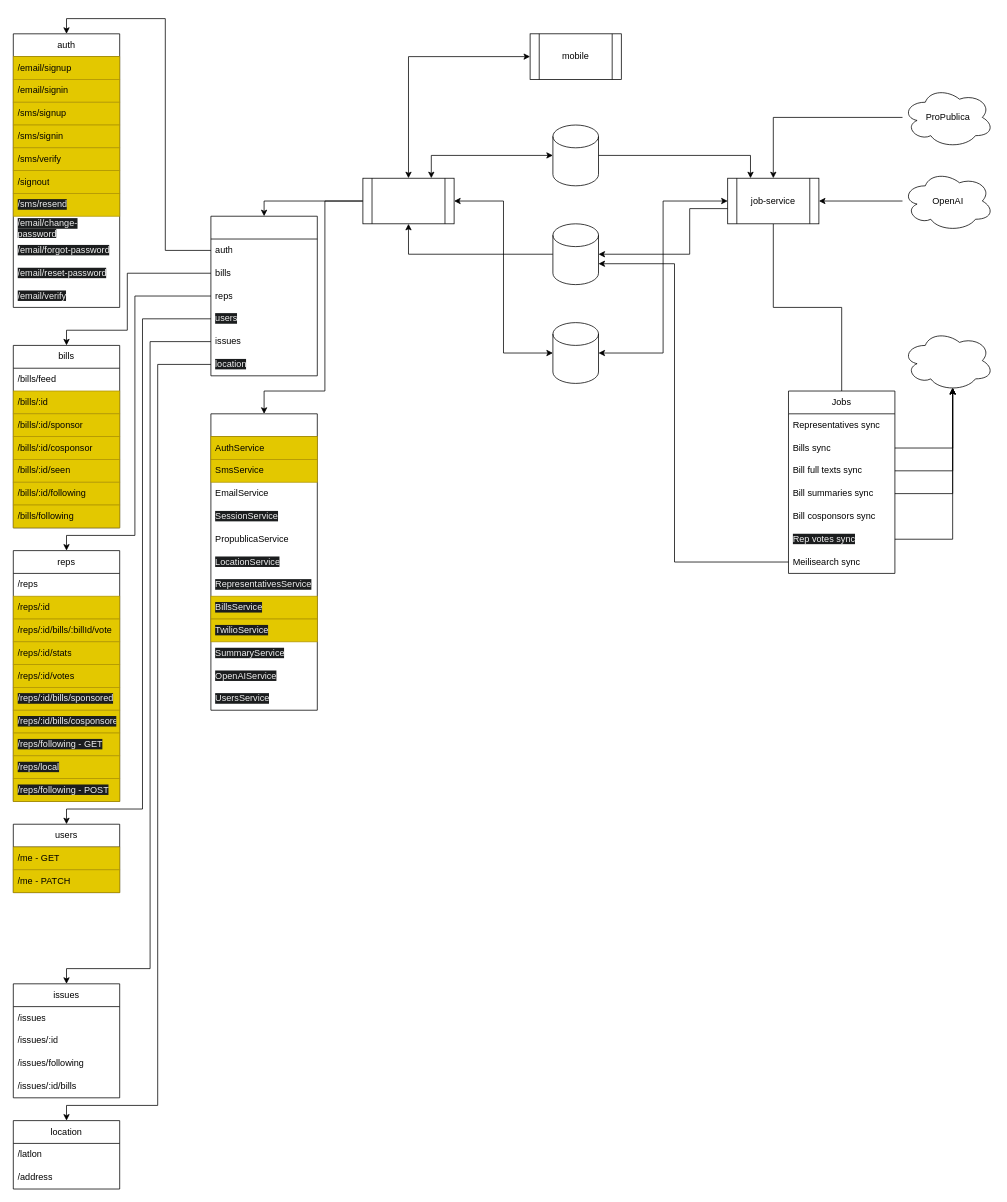
This 1007x1202 diagram has some shape labels left out. The shapes that lost their labels are listed below. From the top down, each one's box as (x1, y1, x2, y2) in pixels, then its label:
(552, 124, 598, 186): Redis
(362, 177, 454, 224): app-service
(552, 223, 598, 285): Meili
(210, 215, 317, 376): Route modules
(552, 322, 598, 383): DB
(902, 329, 994, 391): APNS
(210, 413, 317, 710): Services
